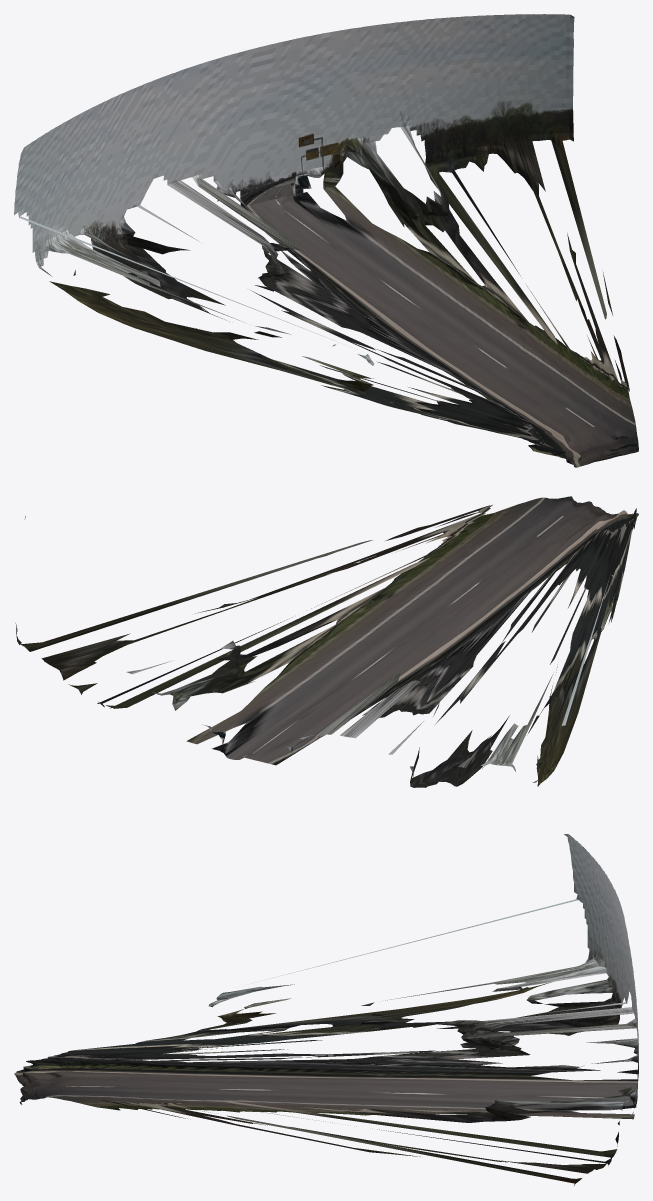
3 views of the same model, one above another, from view 1: azimuth 30°, elevation 25°; view 2: azimuth 150°, elevation 25°; view 3: azimuth 270°, elevation 25° (orthographic). The views are drawn at different scales.
Visible parts, largest first — view 1: defaultobject; view 2: defaultobject; view 3: defaultobject.
Part boxes in pixels (box(x1,y1,x2,y2)): defaultobject: box(14, 14, 638, 467); defaultobject: box(15, 496, 638, 787); defaultobject: box(14, 834, 638, 1185).
Bounding box in the file's own units: 41.08 × 11.98 × 44.58.
1 material, 1 textured.
